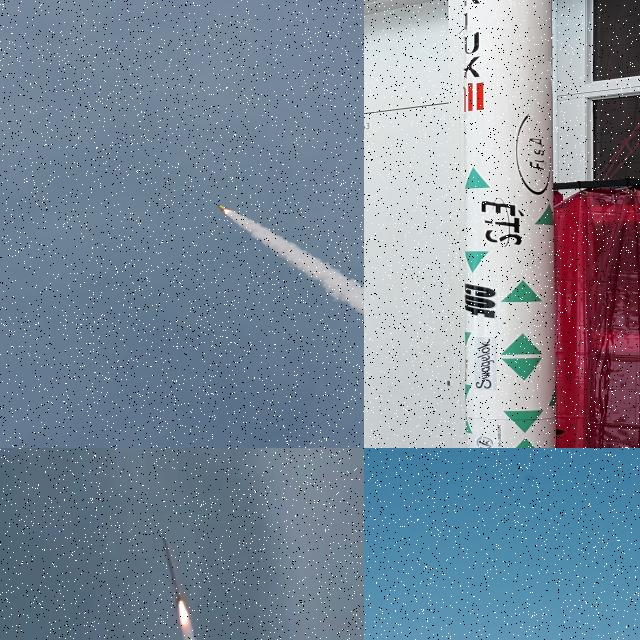Rocket: (464, 0, 556, 448), (162, 528, 184, 602), (217, 204, 231, 213)
